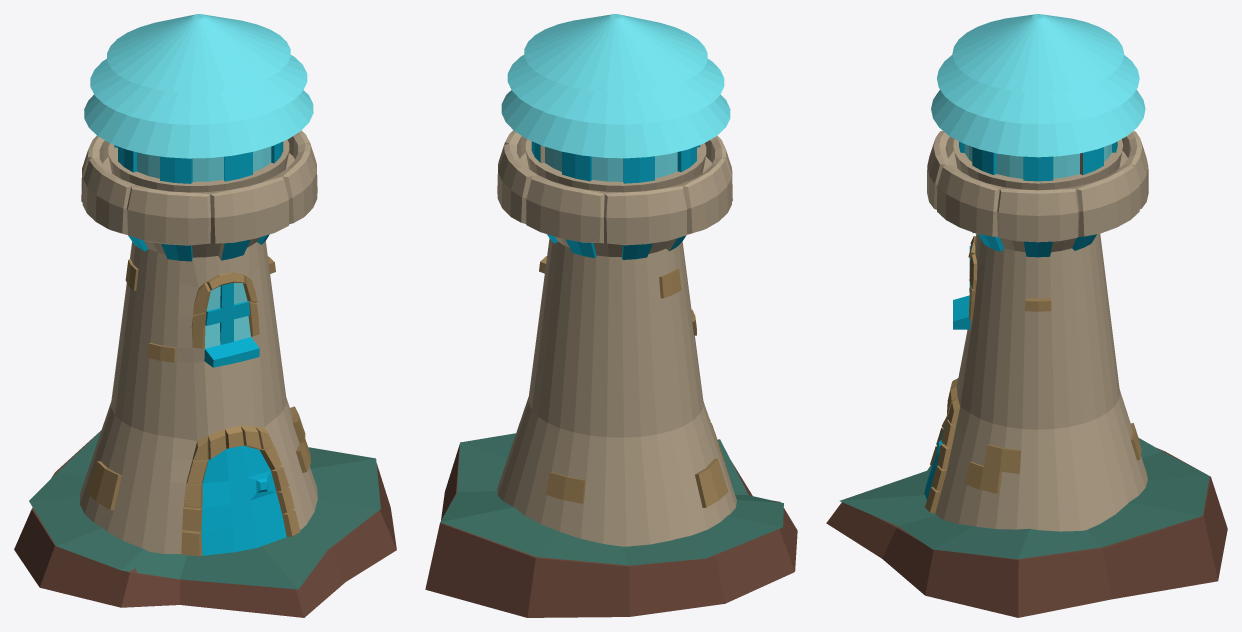
File: kale_hava.fbx
3 views of the same model, side by side, from view 1: azimuth 30°, elevation 25°; view 2: azimuth 150°, elevation 25°; view 3: azimuth 270°, elevation 25° (orthographic). The views are drawn at different scales.
Parts seen in each view (by area): view 1: Cylinder, cımen, Circle; view 2: Cylinder, Circle, cımen; view 3: Cylinder, Circle, cımen.
Boxes of the visible parts, box(x1,y1,x2,y2) form: Cylinder: box(80, 14, 317, 556); cımen: box(29, 431, 380, 589); Circle: box(14, 430, 396, 617); Cylinder: box(497, 14, 736, 546); Circle: box(425, 445, 797, 617); cımen: box(440, 433, 783, 565); Cylinder: box(924, 14, 1148, 531); Circle: box(826, 448, 1227, 617); cımen: box(840, 438, 1209, 559).
Bounding box in the file's own units: 488 × 705 × 496.
